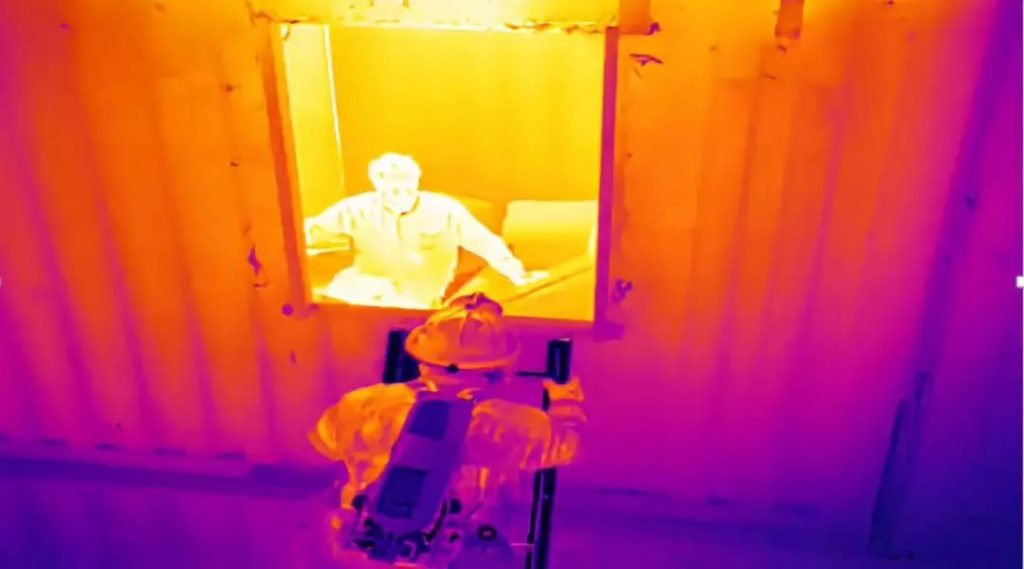person: (306, 280, 603, 567), (303, 131, 548, 311)
